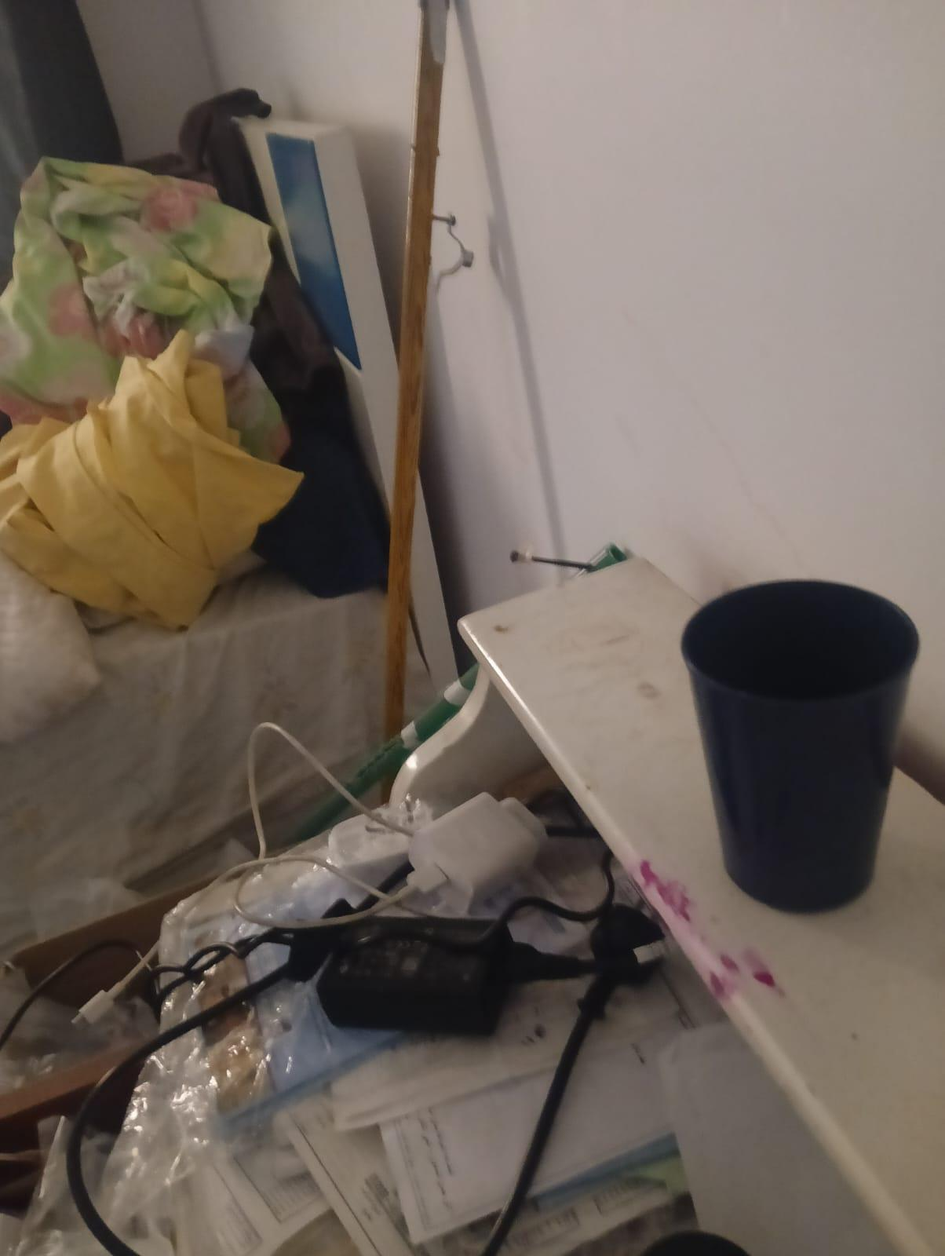cup: (680, 580, 919, 912), (680, 580, 921, 703)
